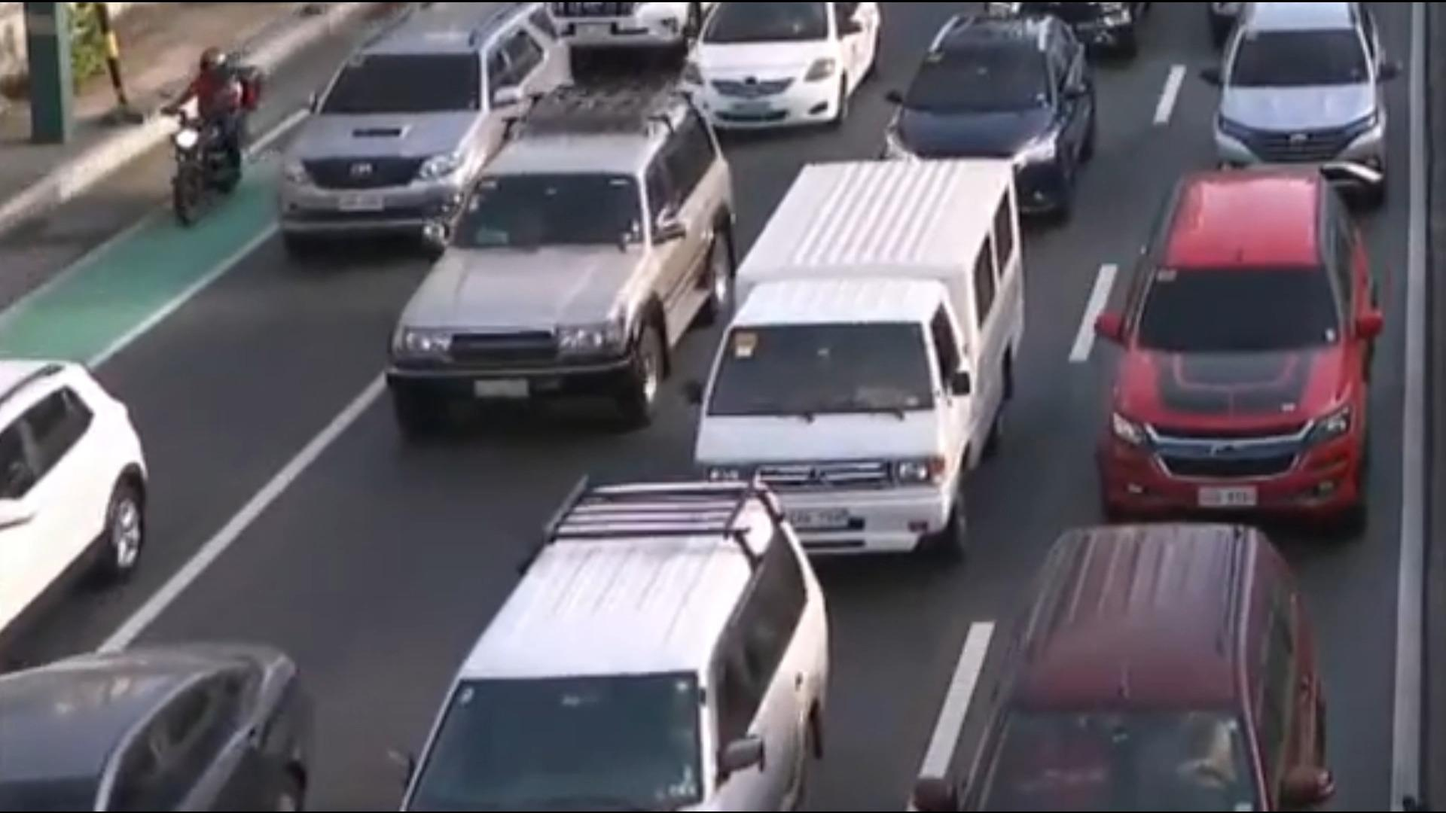Motorcycle: (154, 47, 258, 231)
Multicab: (685, 160, 1034, 574)
SUV: (409, 480, 832, 813), (906, 516, 1329, 813), (380, 94, 738, 416), (1086, 173, 1380, 538), (275, 0, 567, 256), (0, 350, 181, 647)
Sedan: (0, 632, 331, 813), (877, 17, 1113, 218), (1201, 0, 1393, 194), (674, 2, 889, 130)
